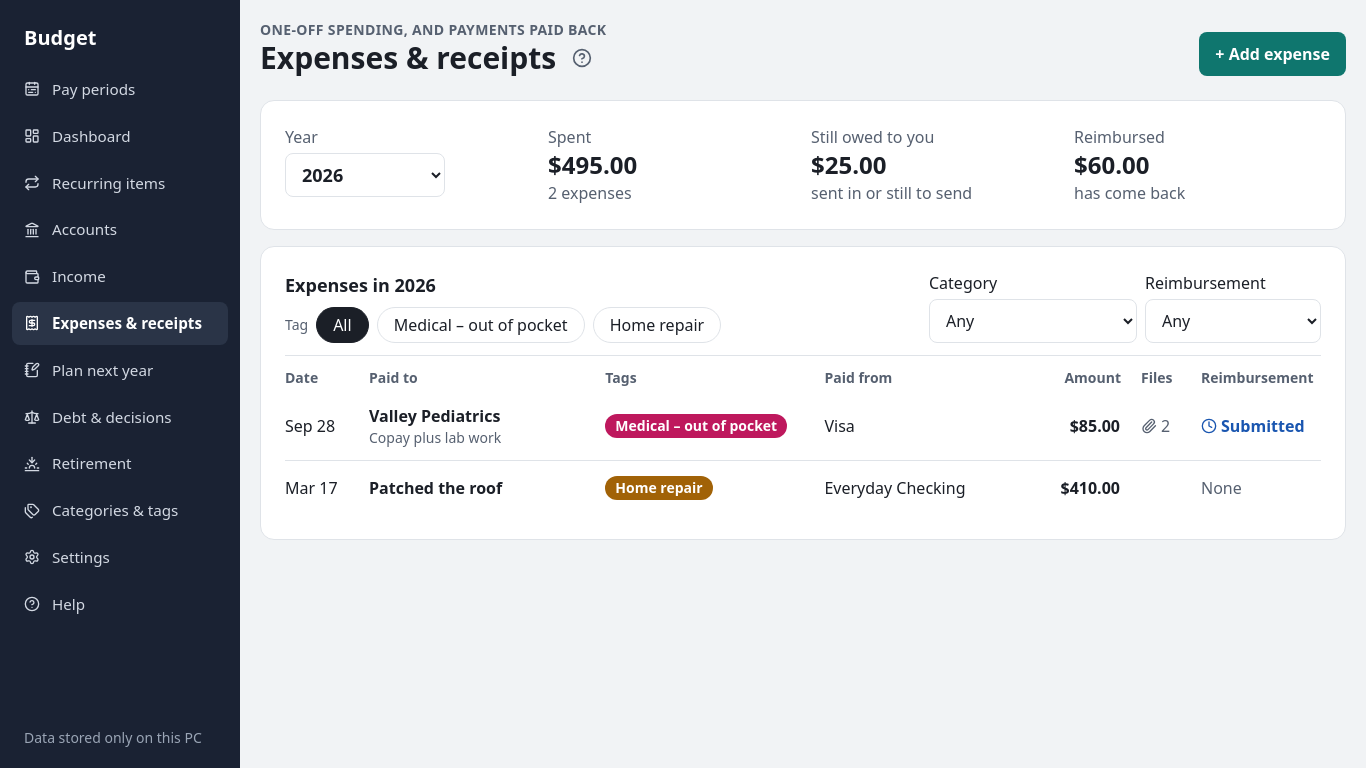
it: Expenses & receipts › narrows by category, sub-categories included, and then offers only the tags left
Select "Housing" in the dropdown labelled "Category". click: (1033, 321)
box: [929,299,1137,343]
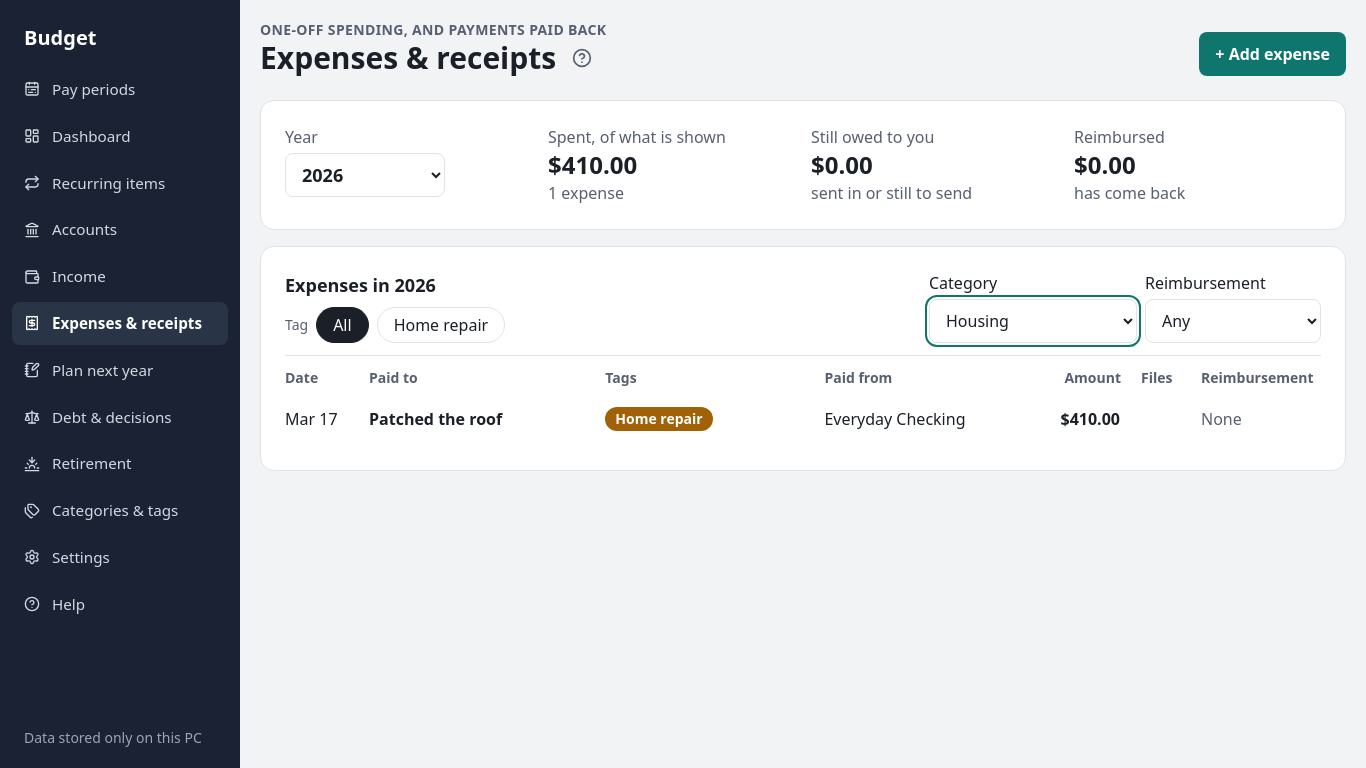
Expected: the button "Home repair" is shown, [377,307,505,343]
Result: the button "Medical – out of pocket" is gone
